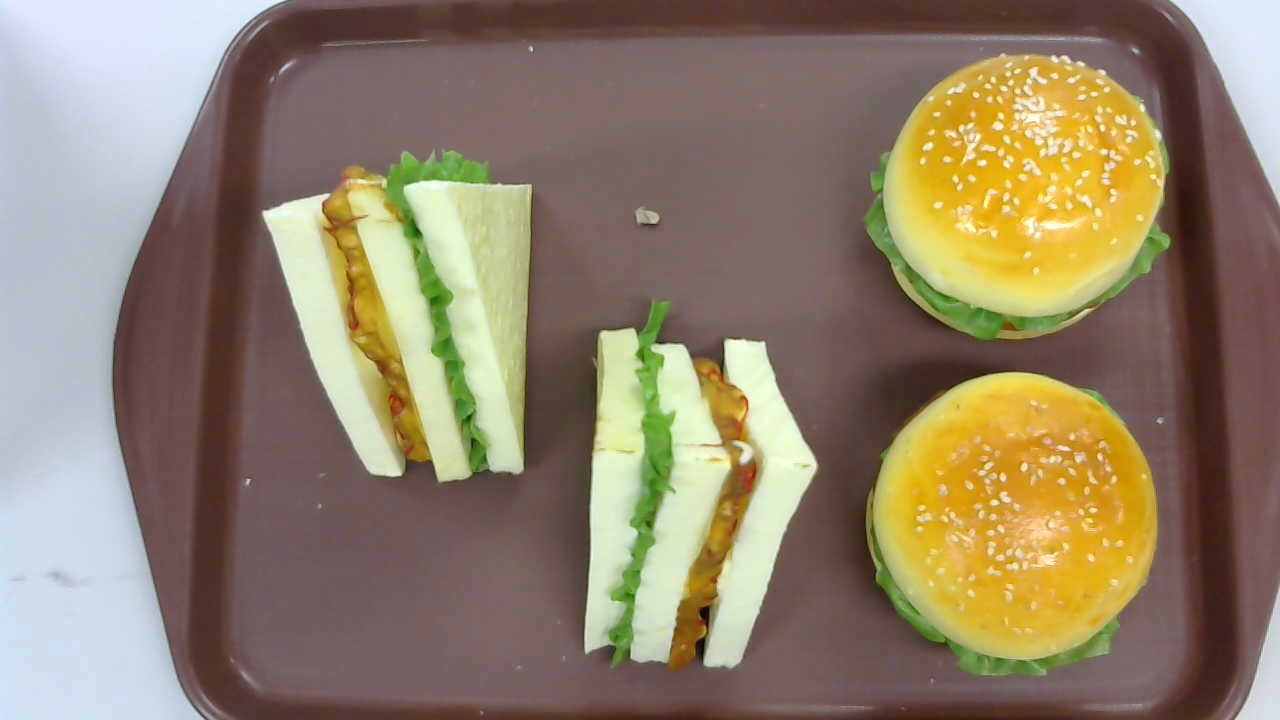hamburger: (864, 369, 1156, 679), (865, 53, 1172, 341)
sandwich: (262, 147, 535, 484), (582, 301, 820, 670)
